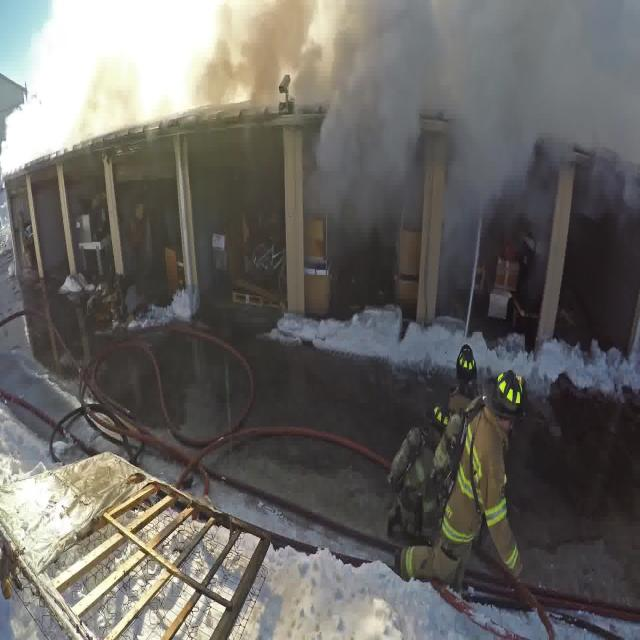Smoke: (308, 0, 640, 198), (3, 0, 313, 163)
